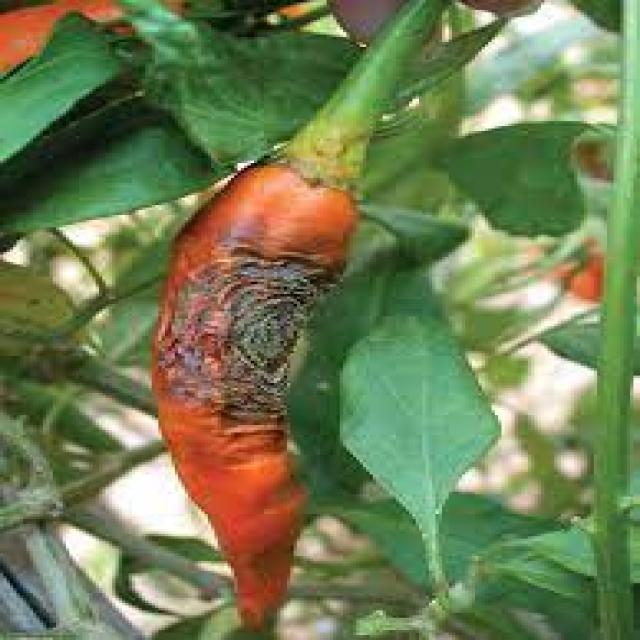Moko: (144, 228, 354, 488)
